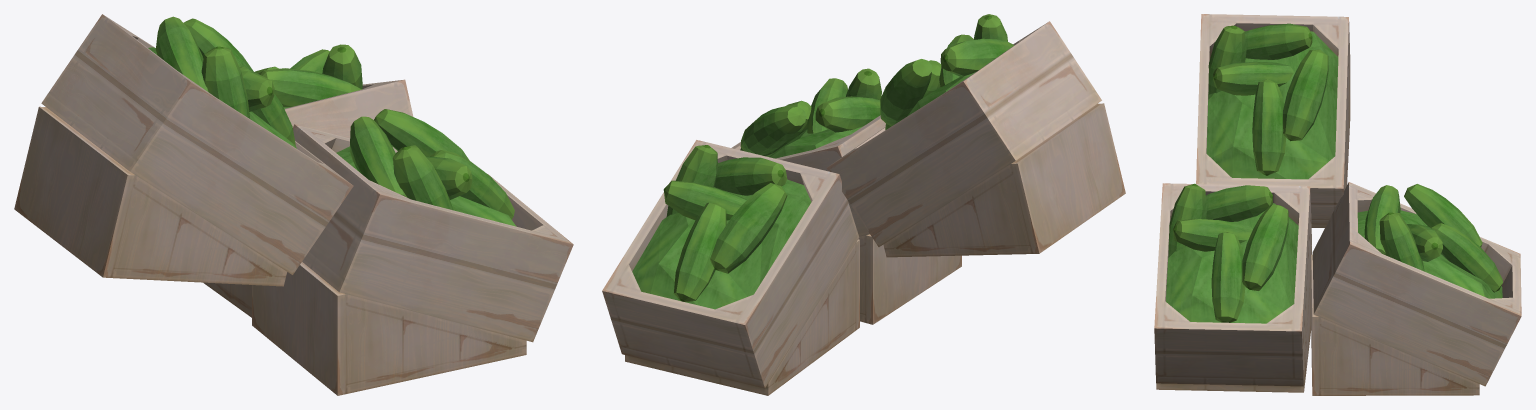
The model's file is P_NEWMaket01_after24.obj.
3 views of the same model, side by side, from view 1: azimuth 30°, elevation 25°; view 2: azimuth 150°, elevation 25°; view 3: azimuth 270°, elevation 25° (orthographic). The views are drawn at different scales.
Size of the model in its own units: 0.7986 by 0.5832 by 0.7187.
Materials: 6 (6 with a texture image).
